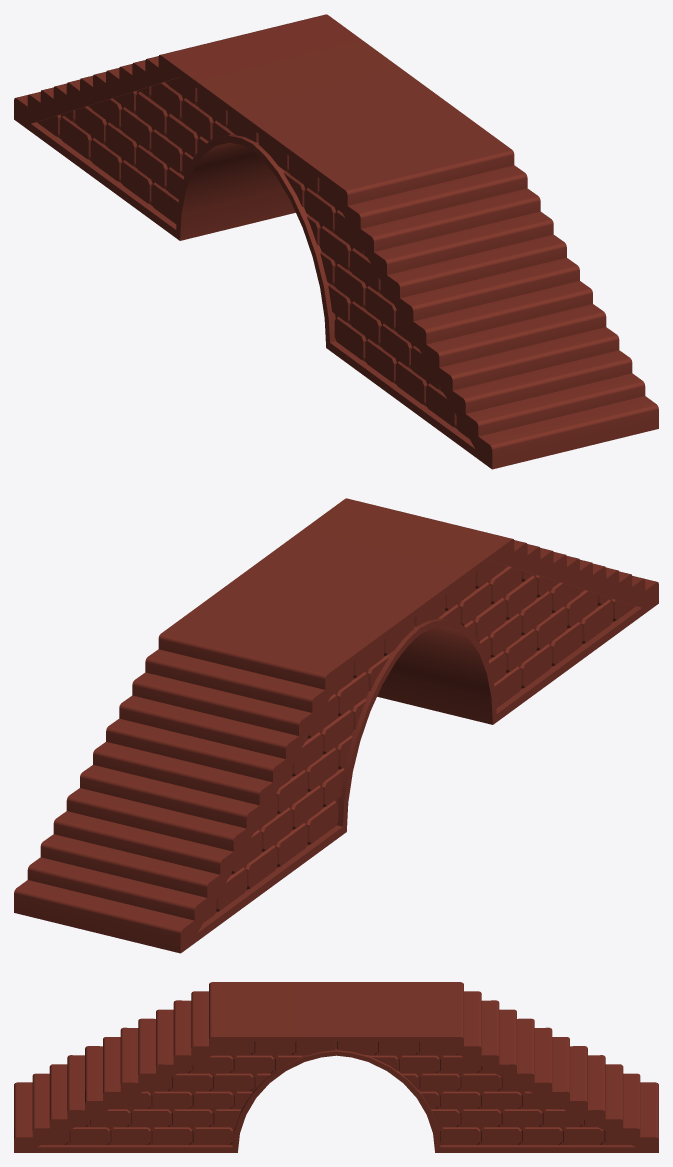
The model's file is stairs_002.fbx.
The picture shows the model from 3 angles, top to bottom: view 1: azimuth 30°, elevation 25°; view 2: azimuth 150°, elevation 25°; view 3: azimuth 270°, elevation 25°; orthographic projection. The views are drawn at different scales.
Parts seen in each view (by area): view 1: stairs_002; view 2: stairs_002; view 3: stairs_002.
Part boxes in pixels (x1,y1,x2,y2): stairs_002: (14,14,658,469); stairs_002: (14,498,658,953); stairs_002: (14,982,658,1152).
Size of the model in its own units: 509 by 2525 by 500.
